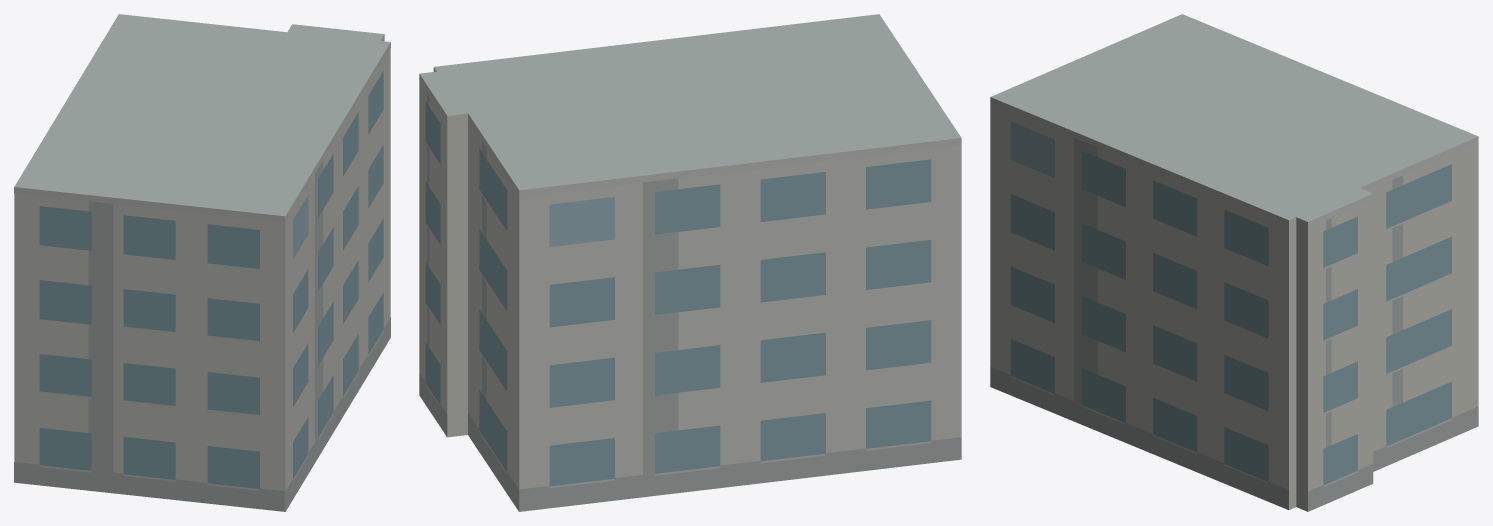
The model's file is residential-1d32aecb-8227-4ad4-9c14-4490ce8e9e79.glb.
3 views of the same model, side by side, from view 1: azimuth 30°, elevation 25°; view 2: azimuth 150°, elevation 25°; view 3: azimuth 270°, elevation 25° (orthographic). The views are drawn at different scales.
Visible parts, largest first — view 1: residential-1d32aecb-8227-4ad4-9c14-4490ce8e9e79.tmp; view 2: residential-1d32aecb-8227-4ad4-9c14-4490ce8e9e79.tmp; view 3: residential-1d32aecb-8227-4ad4-9c14-4490ce8e9e79.tmp.
Boxes of the visible parts, x1,y1,x2,y2 form: residential-1d32aecb-8227-4ad4-9c14-4490ce8e9e79.tmp: (14,14,390,511); residential-1d32aecb-8227-4ad4-9c14-4490ce8e9e79.tmp: (419,14,961,511); residential-1d32aecb-8227-4ad4-9c14-4490ce8e9e79.tmp: (990,14,1478,511).
Size of the model in its own units: 17.85 by 11.6 by 17.71.
